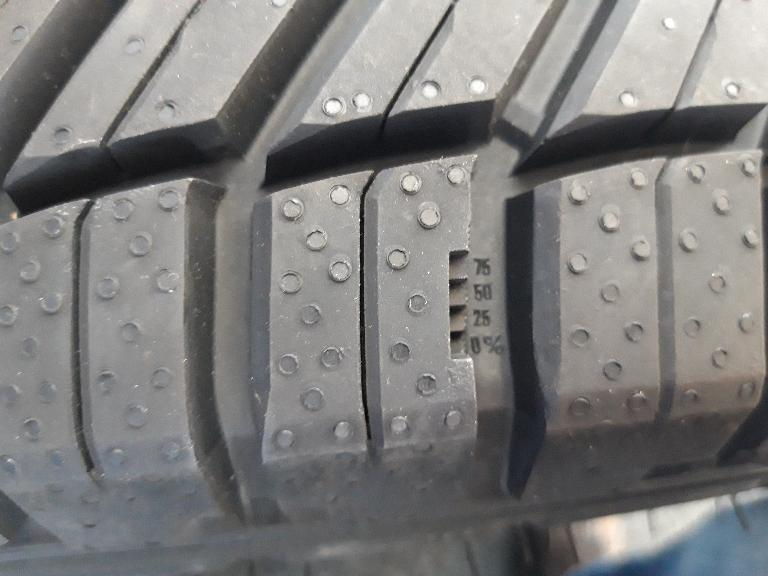temoin:100: (443, 219, 475, 367)
